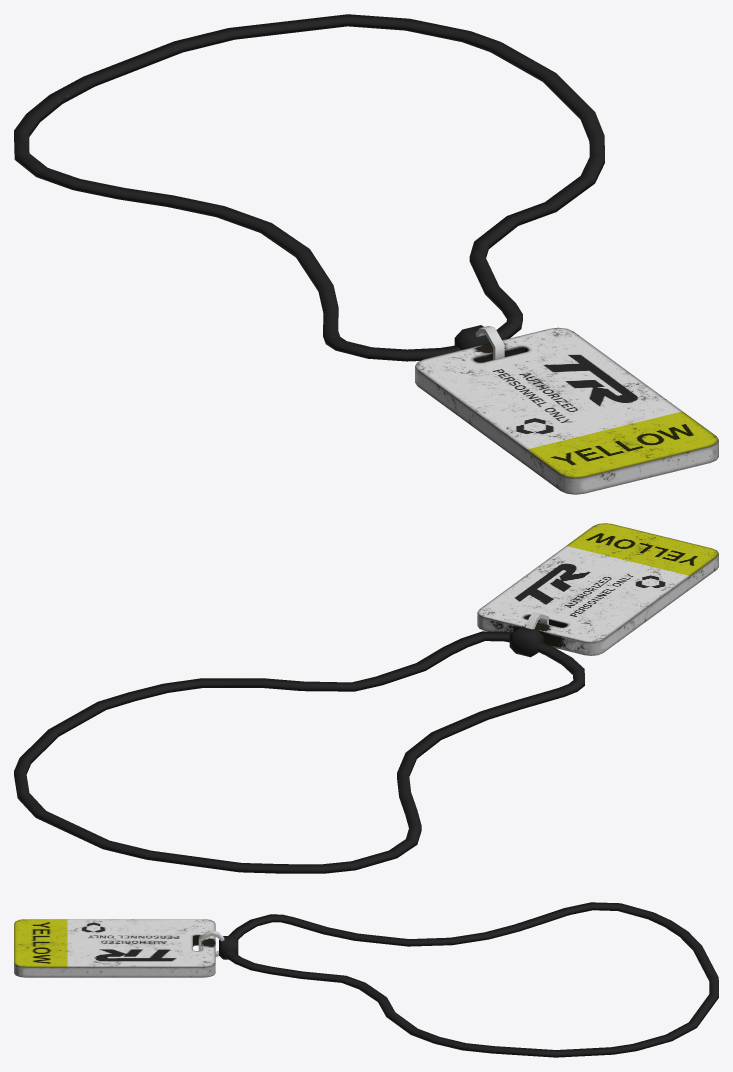
File: keycard.fbx
3 views of the same model, one above another, from view 1: azimuth 30°, elevation 25°; view 2: azimuth 150°, elevation 25°; view 3: azimuth 270°, elevation 25° (orthographic). The views are drawn at different scales.
Visible parts, largest first — view 1: lock; view 2: lock; view 3: lock.
Boxes of the visible parts, box(x1,y1,x2,y2) form: lock: box(14, 14, 718, 494); lock: box(14, 523, 718, 873); lock: box(14, 902, 718, 1057).
Bounding box in the file's own units: 212 × 17.2 × 419.
1 material, 1 textured.
